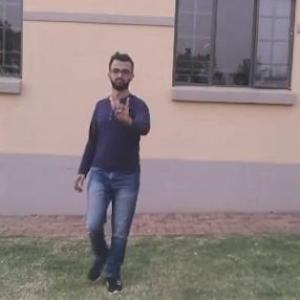takeoff-hand: (109, 94, 135, 122)
